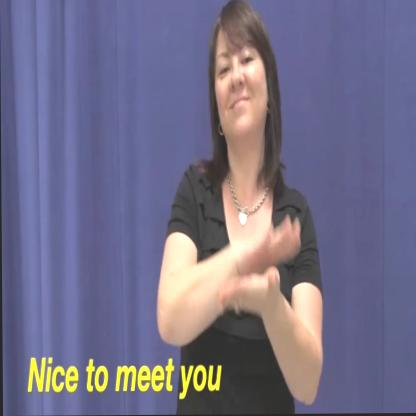NiceToMeetYou: (198, 168, 311, 356)
